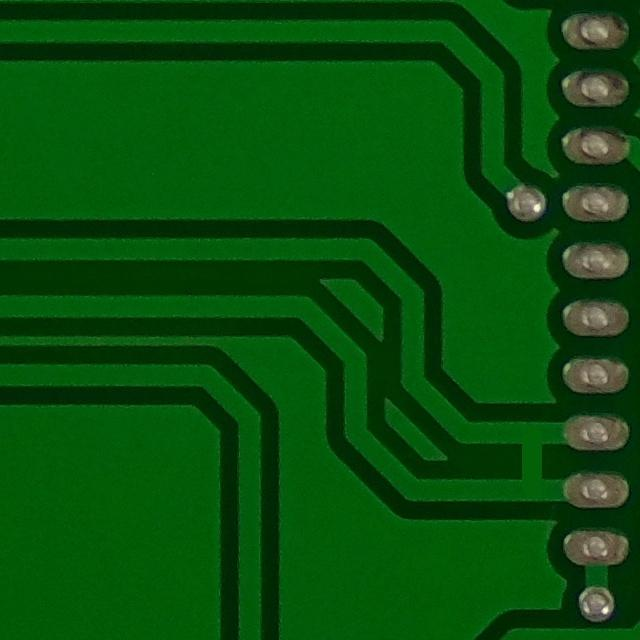short: (482, 416, 571, 510)
